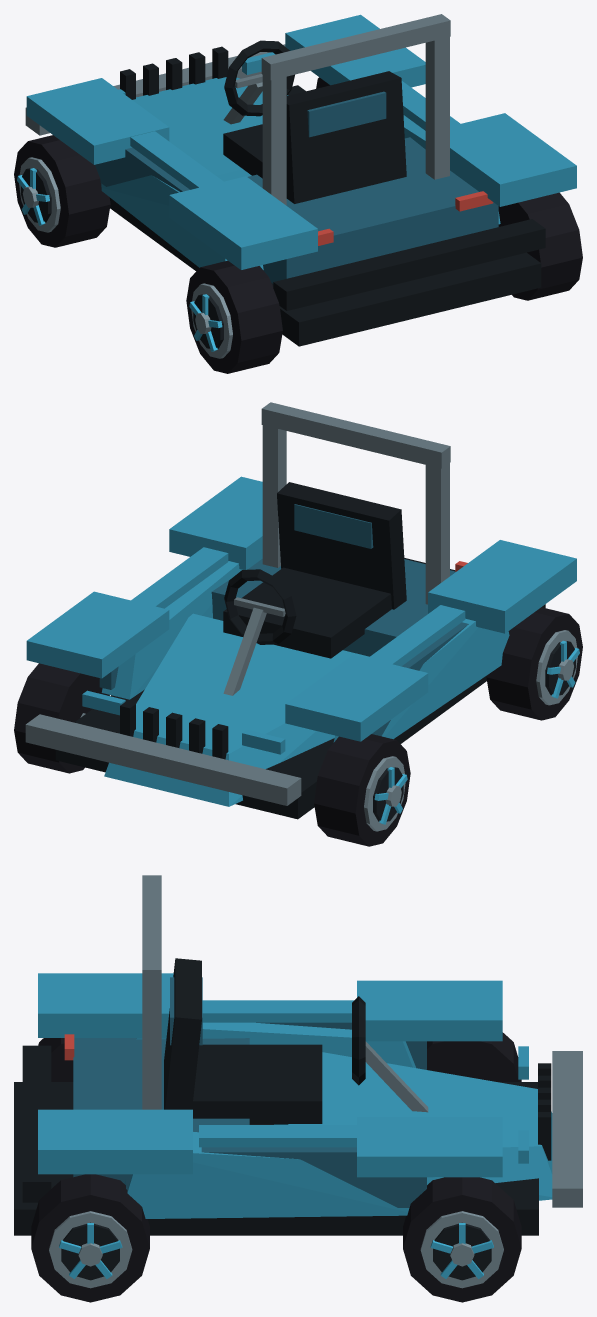
The model's file is kart.glb.
3 renders of one model, top to bottom at view 1: azimuth 30°, elevation 25°; view 2: azimuth 150°, elevation 25°; view 3: azimuth 270°, elevation 25°, orthographic. The views are drawn at different scales.
Parts seen in each view (by area): view 1: chassis, wheel-rear-left, wheel-front-left, wheel-rear-right; view 2: chassis, wheel-front-left, wheel-rear-left, wheel-front-right; view 3: chassis, wheel-rear-right, wheel-front-right, wheel-front-left, wheel-rear-left.
Boxes of the visible parts, x1,y1,x2,y2 form: chassis: [25, 14, 576, 346]; wheel-rear-left: [186, 260, 282, 373]; wheel-front-left: [14, 135, 110, 247]; wheel-rear-right: [498, 192, 582, 300]; chassis: [25, 402, 576, 819]; wheel-front-left: [314, 734, 410, 846]; wheel-rear-left: [486, 607, 582, 720]; wheel-front-right: [14, 663, 109, 773]; chassis: [14, 875, 582, 1235]; wheel-rear-right: [31, 1174, 149, 1302]; wheel-front-right: [403, 1177, 521, 1302]; wheel-front-left: [427, 1032, 521, 1081]; wheel-rear-left: [38, 1038, 73, 1081].
Bounding box in the file's own units: 2.39 × 1.67 × 2.97.
